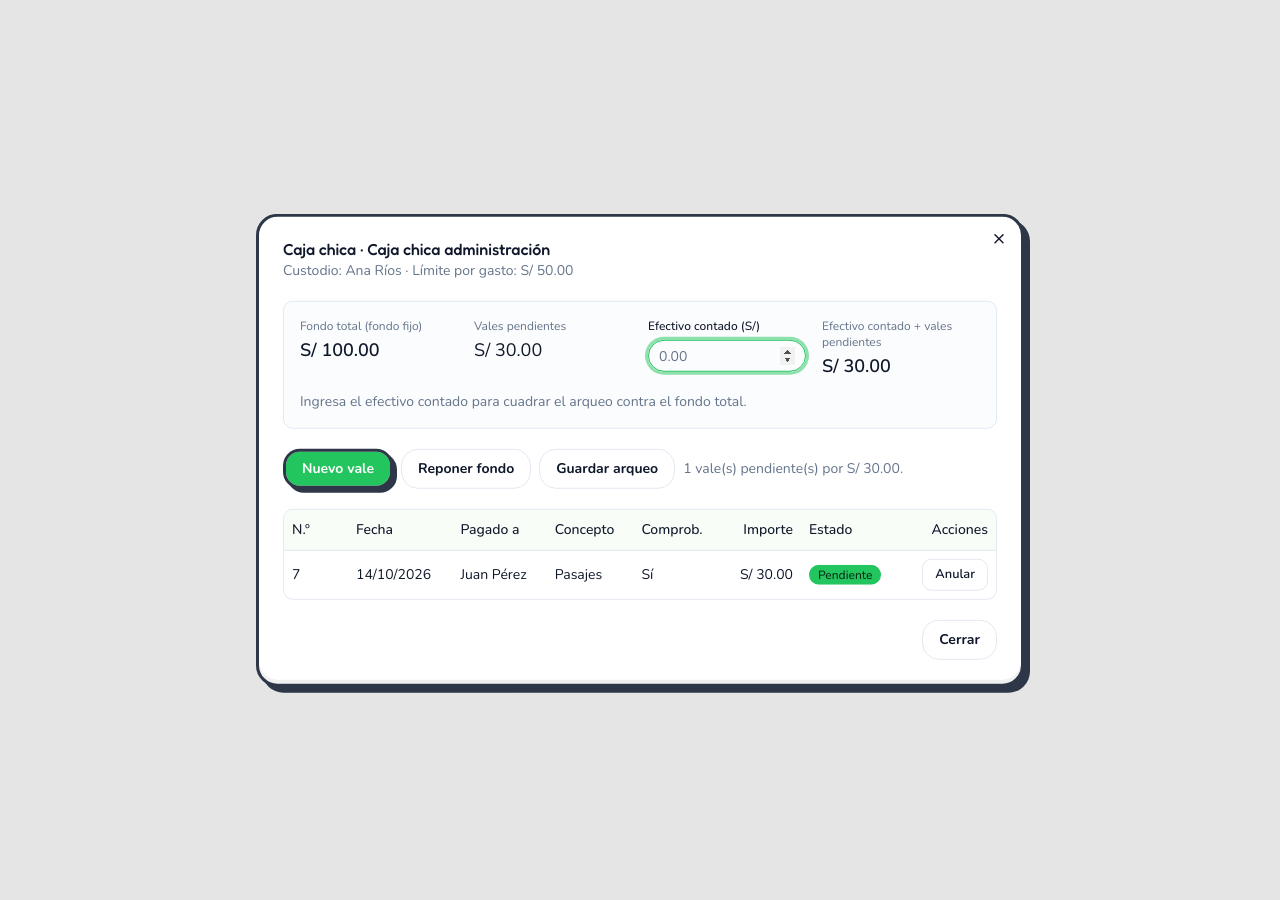
Scenario: PettyCashPanel › anula un vale pendiente y recarga la lista
Click the button "Anular": [955, 574] box [922,558,988,590]
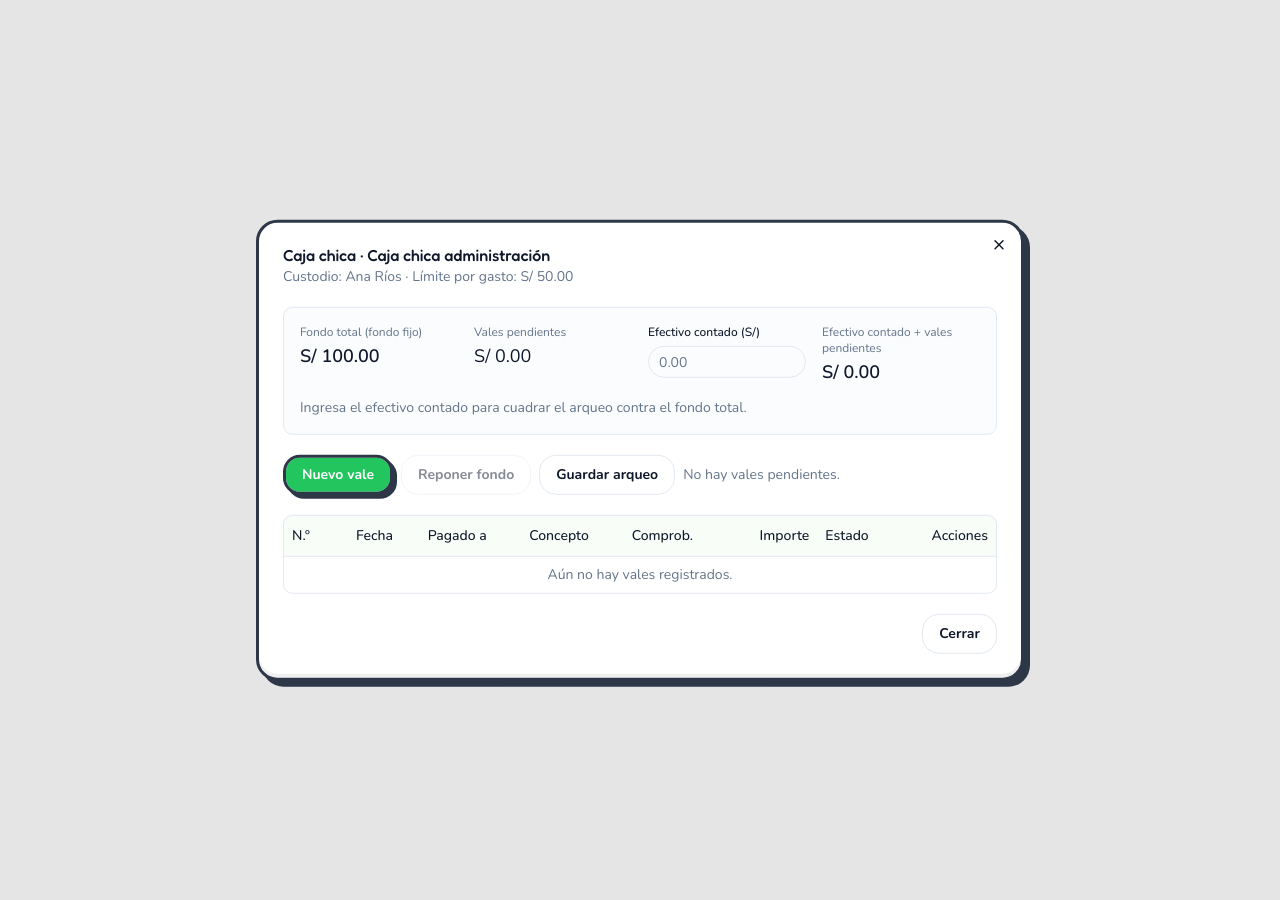
Expected: the text "Aún no hay vales registrados." is shown, [284,556,996,592]
